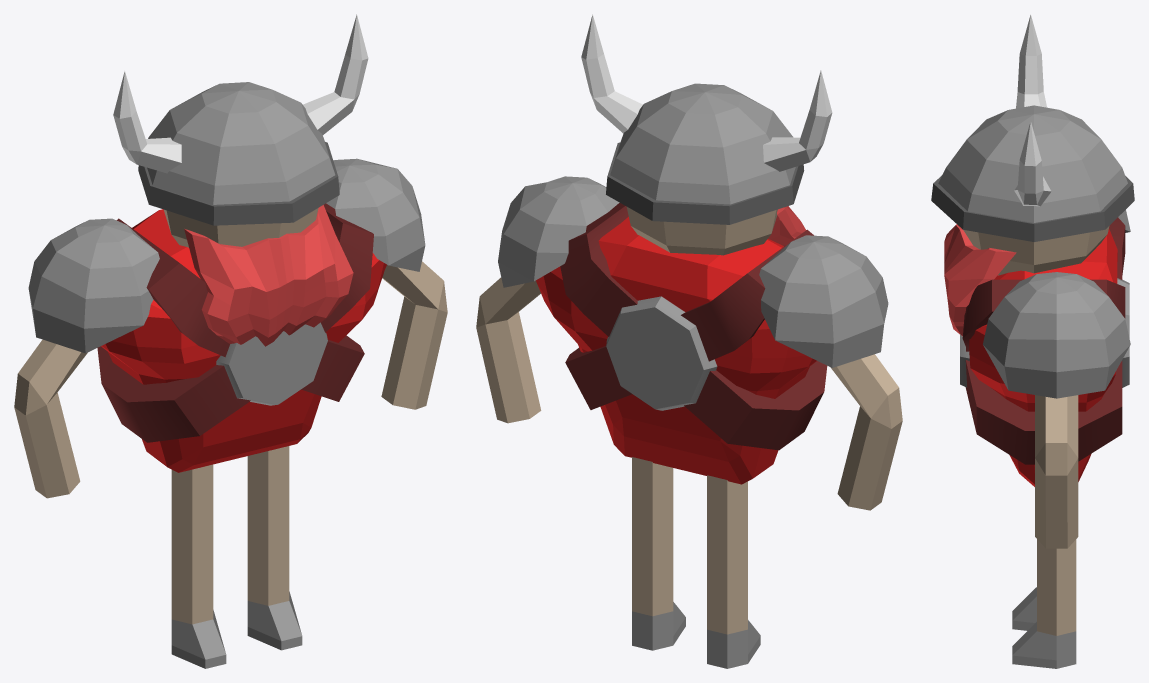
The model's file is Thor_001_Armour_001.fbx.
3 renders of one model, left to right at view 1: azimuth 30°, elevation 25°; view 2: azimuth 150°, elevation 25°; view 3: azimuth 270°, elevation 25°, orthographic. The views are drawn at different scales.
Visible parts, largest first — view 1: Thor_001_Armour_001; view 2: Thor_001_Armour_001; view 3: Thor_001_Armour_001.
Boxes of the visible parts, x1,y1,x2,y2 form: Thor_001_Armour_001: (14, 14, 447, 668); Thor_001_Armour_001: (476, 14, 902, 668); Thor_001_Armour_001: (931, 14, 1134, 668).
Size of the model in its own units: 112 by 155 by 49.76.
